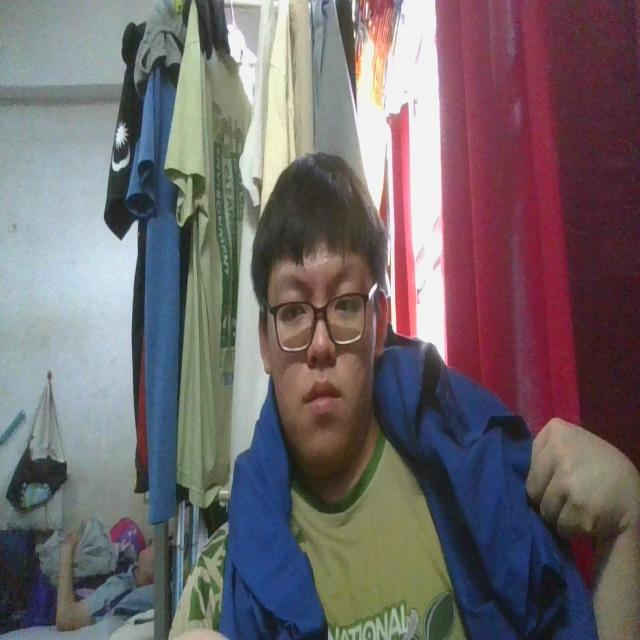person_without_labcoat: (171, 154, 640, 639)
